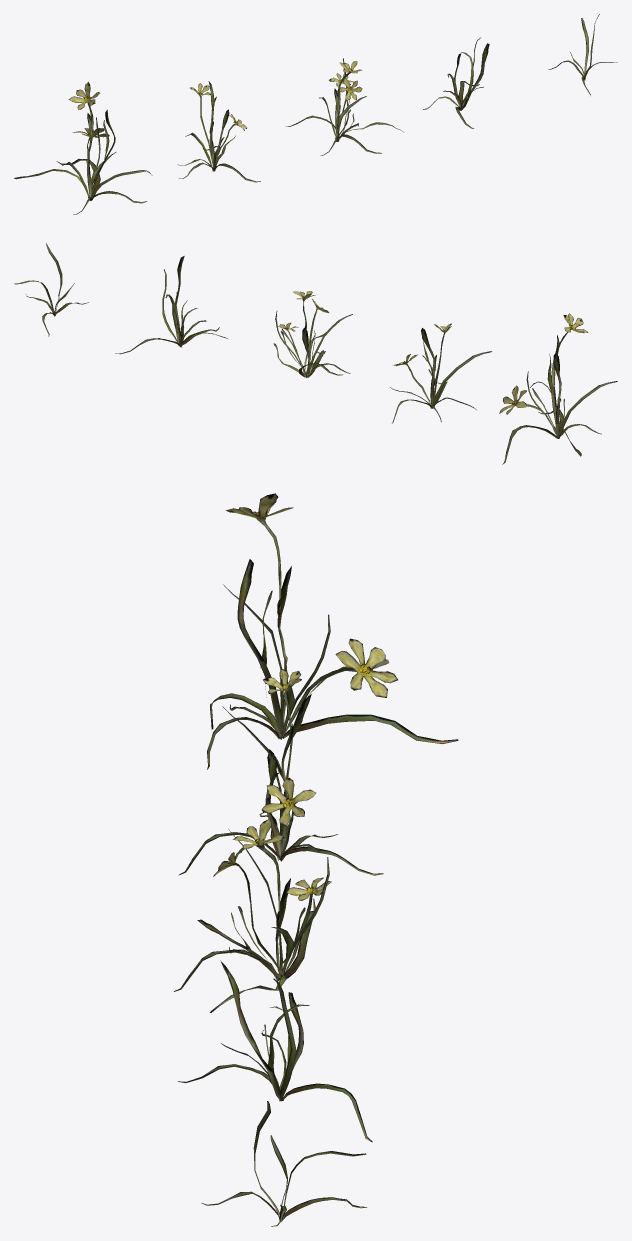
The model's file is fl_yellow.glb.
3 views of the same model, one above another, from view 1: azimuth 30°, elevation 25°; view 2: azimuth 150°, elevation 25°; view 3: azimuth 270°, elevation 25° (orthographic). The views are drawn at different scales.
Parts seen in each view (by area): view 1: flower_empodium_a_LOD0, flower_empodium_c_LOD0, flower_empodium_b_LOD0, flower_empodium_d_LOD0, flower_empodium_e_LOD0; view 2: flower_empodium_a_LOD0, flower_empodium_c_LOD0, flower_empodium_b_LOD0, flower_empodium_d_LOD0, flower_empodium_e_LOD0; view 3: flower_empodium_a_LOD0, flower_empodium_c_LOD0, flower_empodium_b_LOD0, flower_empodium_d_LOD0, flower_empodium_e_LOD0.
Part boxes in pixels (x1=…): flower_empodium_a_LOD0: x1=14, y1=82, x2=152, y2=214; flower_empodium_c_LOD0: x1=286, y1=58, x2=403, y2=155; flower_empodium_b_LOD0: x1=177, y1=81, x2=260, y2=182; flower_empodium_d_LOD0: x1=423, y1=37, x2=489, y2=128; flower_empodium_e_LOD0: x1=548, y1=14, x2=617, y2=95; flower_empodium_a_LOD0: x1=499, y1=313, x2=617, y2=464; flower_empodium_c_LOD0: x1=273, y1=291, x2=352, y2=377; flower_empodium_b_LOD0: x1=390, y1=323, x2=491, y2=423; flower_empodium_d_LOD0: x1=115, y1=256, x2=227, y2=354; flower_empodium_e_LOD0: x1=14, y1=243, x2=88, y2=336; flower_empodium_a_LOD0: x1=207, y1=493, x2=458, y2=769; flower_empodium_c_LOD0: x1=174, y1=818, x2=331, y2=1012; flower_empodium_b_LOD0: x1=178, y1=668, x2=383, y2=875; flower_empodium_d_LOD0: x1=178, y1=960, x2=372, y2=1142; flower_empodium_e_LOD0: x1=201, y1=1101, x2=366, y2=1226.
Bounding box in the file's own units: 1.32 × 0.2684 × 0.2841.
1 material, 1 textured.
